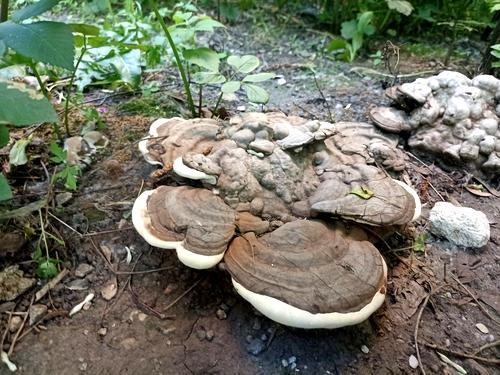Ganoderma - Fruit Body: (135, 113, 417, 330), (418, 71, 500, 170)
